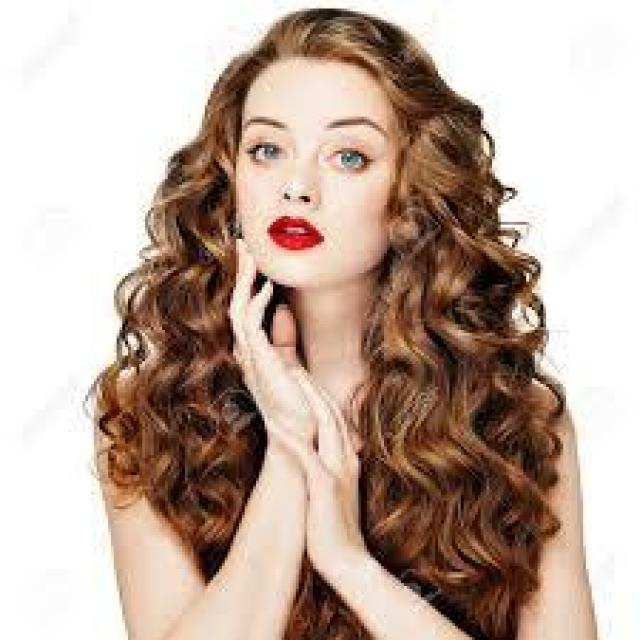person: (94, 9, 594, 637)
